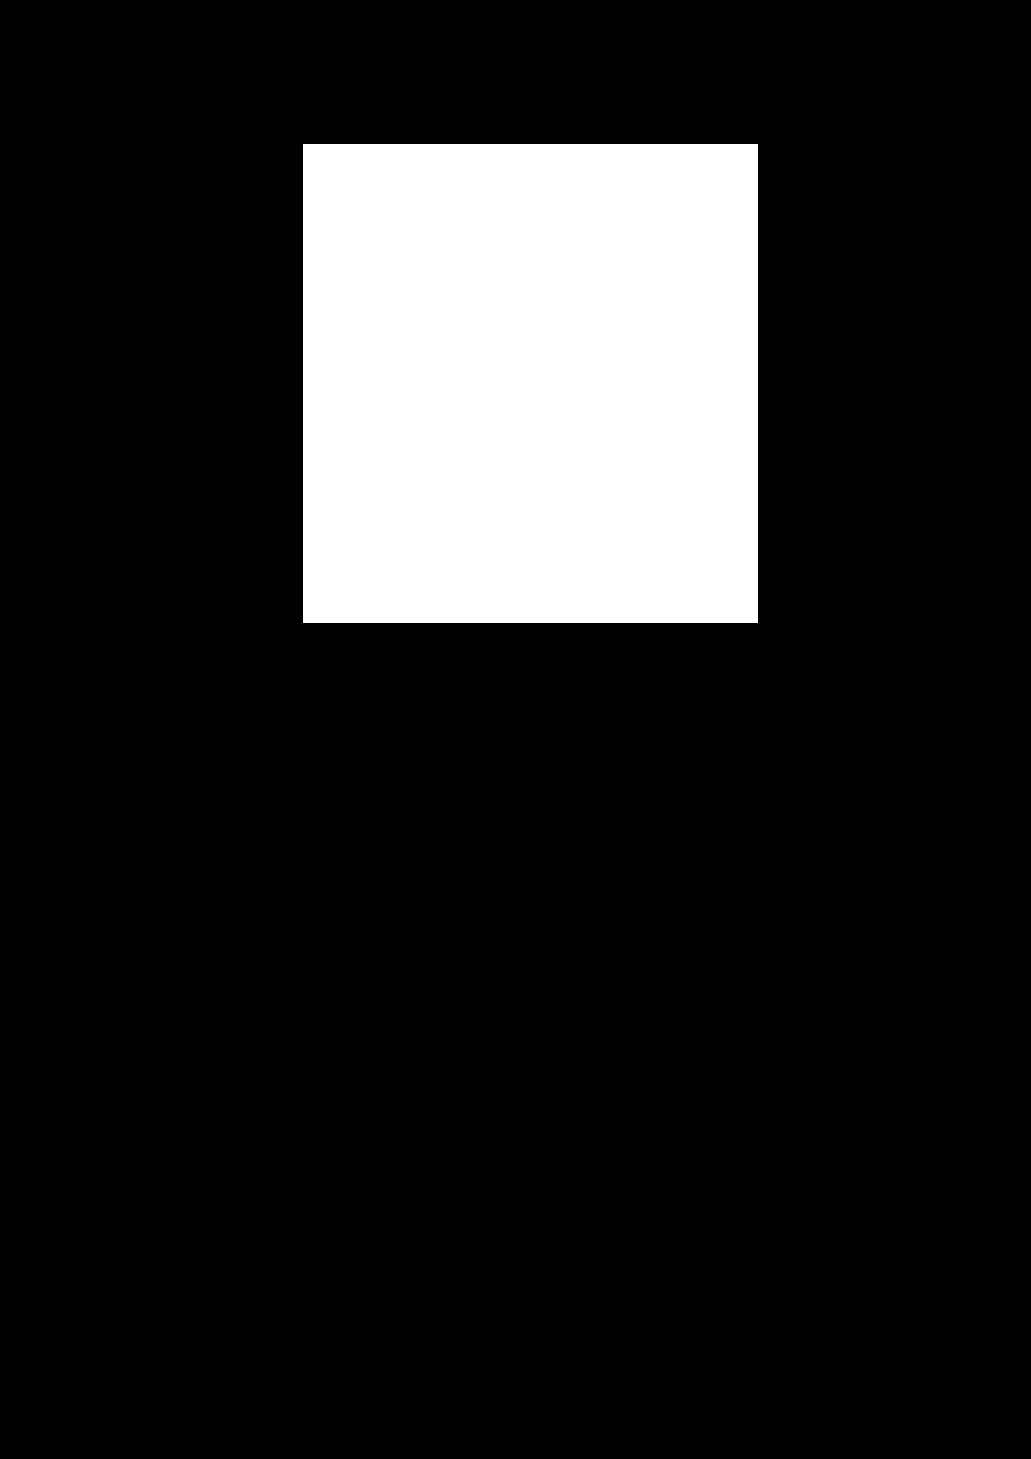table: (303, 144, 757, 622)
